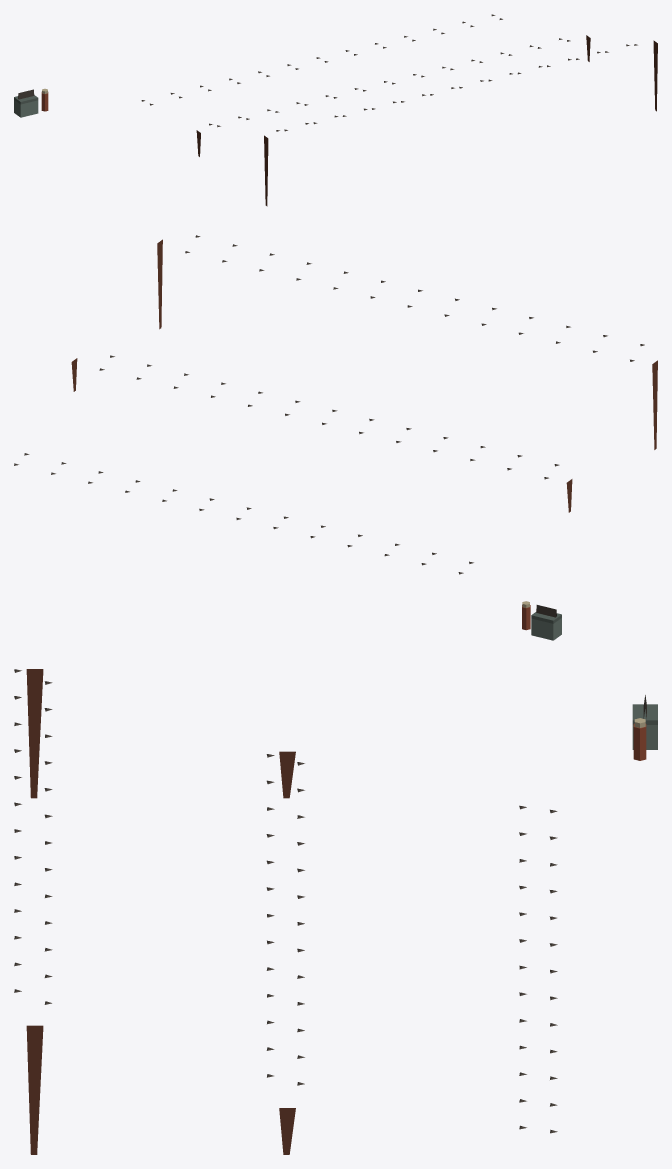
Rendered from plate_kicker_10x3x8_detail2.glb.
3 views of the same model, one above another, from view 1: azimuth 30°, elevation 25°; view 2: azimuth 150°, elevation 25°; view 3: azimuth 270°, elevation 25° (orthographic). The views are drawn at different scales.
Visible parts, largest first — view 1: plate_kicker_10x3x8_detail2; view 2: plate_kicker_10x3x8_detail2; view 3: plate_kicker_10x3x8_detail2.
Part boxes in pixels (bbox=[...]): plate_kicker_10x3x8_detail2: bbox=[14, 14, 657, 206]; plate_kicker_10x3x8_detail2: bbox=[14, 235, 657, 640]; plate_kicker_10x3x8_detail2: bbox=[14, 669, 657, 1154].
Bounding box in the file's own units: 9.79 × 1.64 × 6.12.
